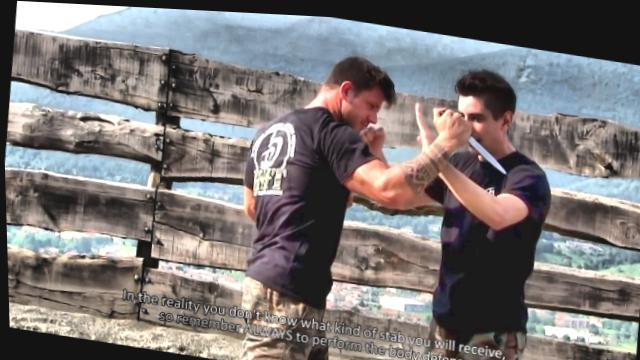knife: (426, 99, 512, 171)
